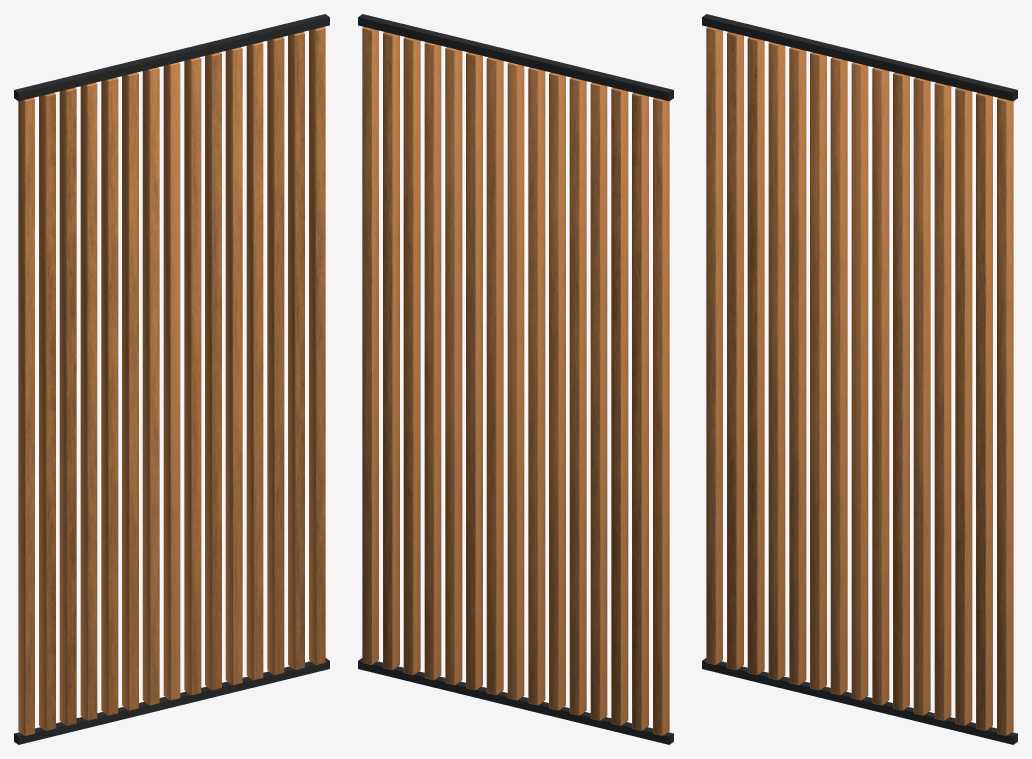
Rendered from partition.wood-slat-divider.glb.
3 views of the same model, side by side, from view 1: azimuth 30°, elevation 25°; view 2: azimuth 150°, elevation 25°; view 3: azimuth 330°, elevation 25° (orthographic).
Visible parts, largest first — view 1: partition.wood-slat-divider.001; view 2: partition.wood-slat-divider.001; view 3: partition.wood-slat-divider.001.
Boxes of the visible parts, x1,y1,x2,y2 form: partition.wood-slat-divider.001: [14, 14, 329, 744]; partition.wood-slat-divider.001: [358, 14, 673, 744]; partition.wood-slat-divider.001: [702, 14, 1017, 744].
Bounding box in the file's own units: 1.2 × 2.4 × 0.05.
Materials: 2 (1 with a texture image).
